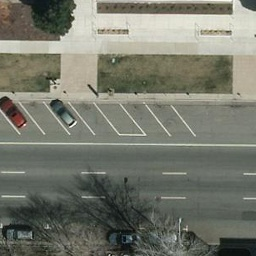car: (1, 97, 27, 132), (49, 100, 79, 129), (108, 227, 141, 246), (147, 228, 183, 245), (6, 227, 36, 241)
